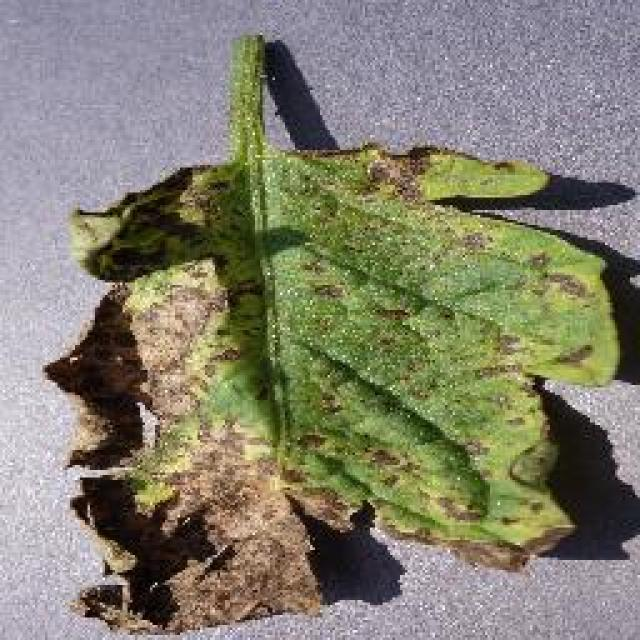Tomato___Septoria_leaf_spot: (45, 35, 618, 630)
